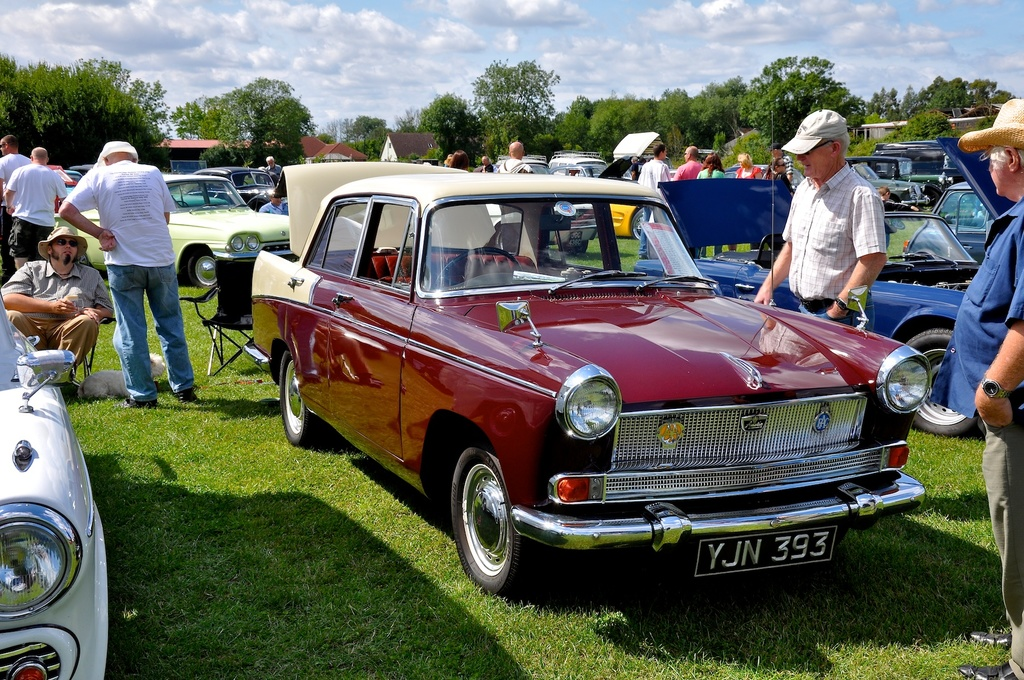Car: (236, 180, 935, 611), (621, 169, 976, 442), (0, 282, 115, 679), (860, 169, 986, 438), (51, 168, 279, 284), (548, 144, 604, 235)
